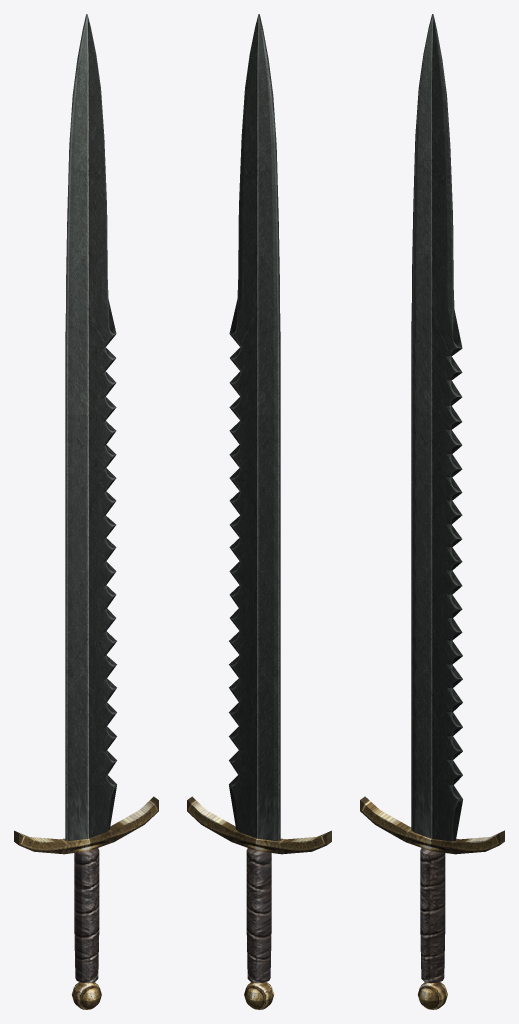
The model's file is mm8_m456_sword.glb.
3 views of the same model, side by side, from view 1: azimuth 30°, elevation 25°; view 2: azimuth 150°, elevation 25°; view 3: azimuth 330°, elevation 25° (orthographic).
Parts seen in each view (by area): view 1: Sword; view 2: Sword; view 3: Sword.
Boxes of the visible parts, x1,y1,x2,y2 form: Sword: (14, 14, 158, 1009); Sword: (187, 14, 331, 1009); Sword: (360, 14, 504, 1009).
Bounding box in the file's own units: 0.1923 × 1.31 × 0.036.
1 material, 1 textured.
